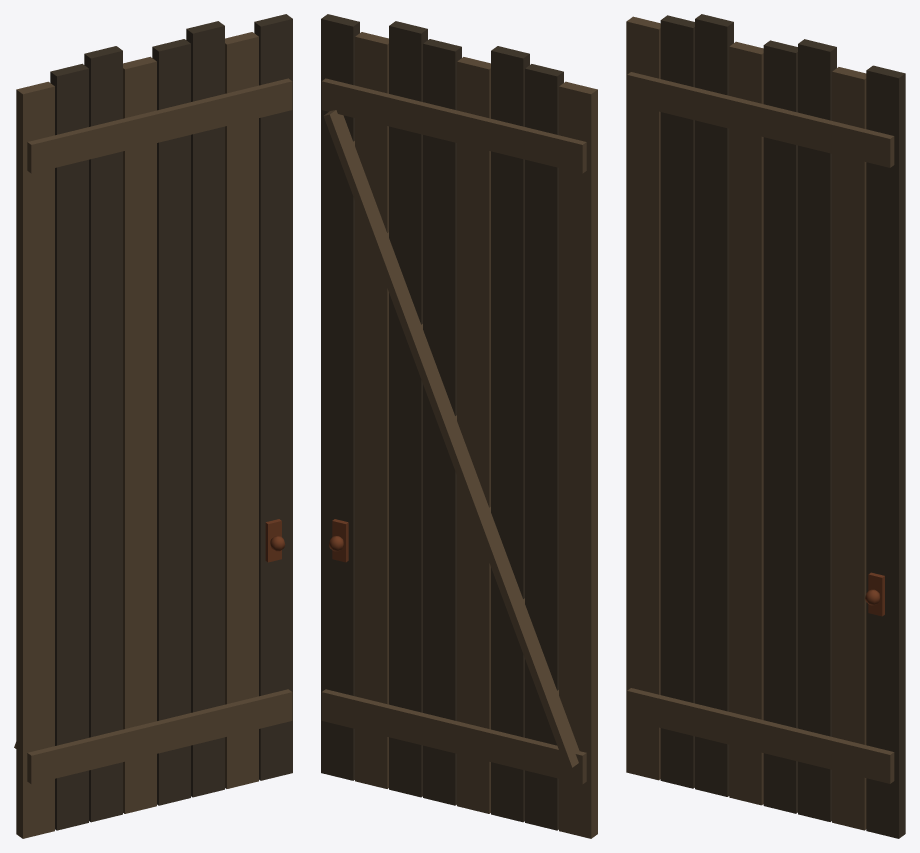
File: SM_Door_abandoned_120x320.fbx
3 renders of one model, left to right at view 1: azimuth 30°, elevation 25°; view 2: azimuth 150°, elevation 25°; view 3: azimuth 330°, elevation 25°, orthographic.
Visible parts, largest first — view 1: SM_Door_abandoned_120x320; view 2: SM_Door_abandoned_120x320; view 3: SM_Door_abandoned_120x320.
Boxes of the visible parts, x1,y1,x2,y2 form: SM_Door_abandoned_120x320: [14, 14, 292, 838]; SM_Door_abandoned_120x320: [321, 14, 597, 838]; SM_Door_abandoned_120x320: [626, 14, 905, 838].
Size of the model in its own units: 1.18 by 3.19 by 0.2.
